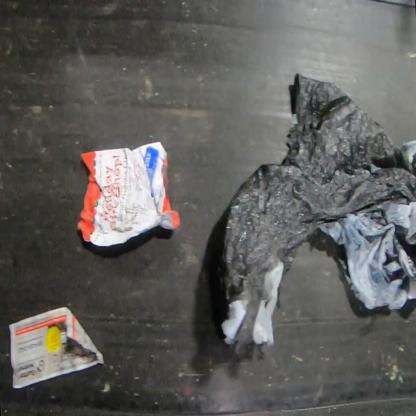soft_plastic: (218, 74, 416, 347)
